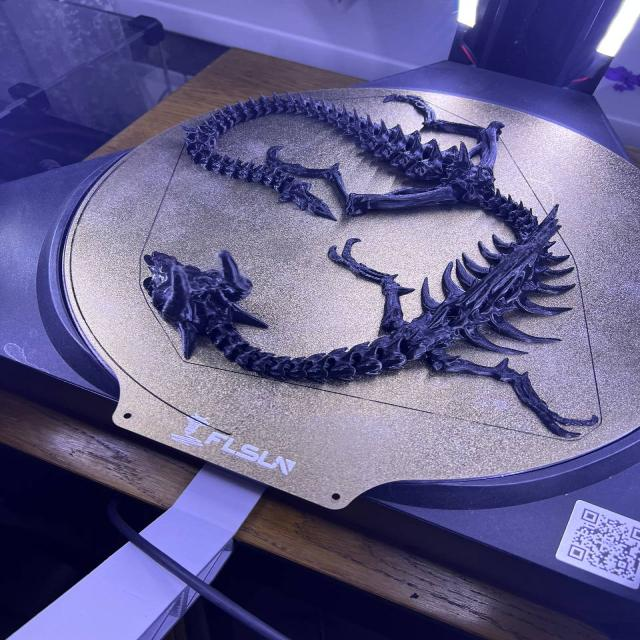Without deffect: (138, 80, 616, 467)
